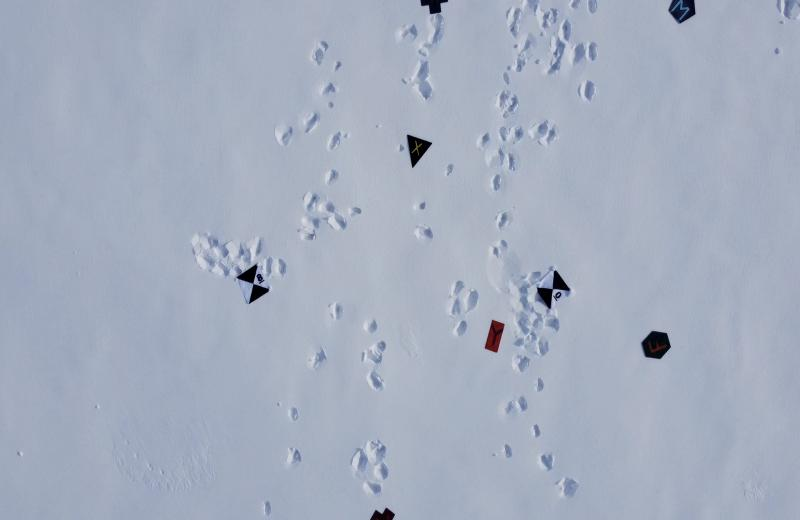Cross: (416, 0, 452, 47)
Hexagon: (635, 325, 673, 369)
Pentagon: (660, 0, 700, 47)
Rectangle: (474, 314, 516, 361)
Triangle: (394, 131, 435, 173)
